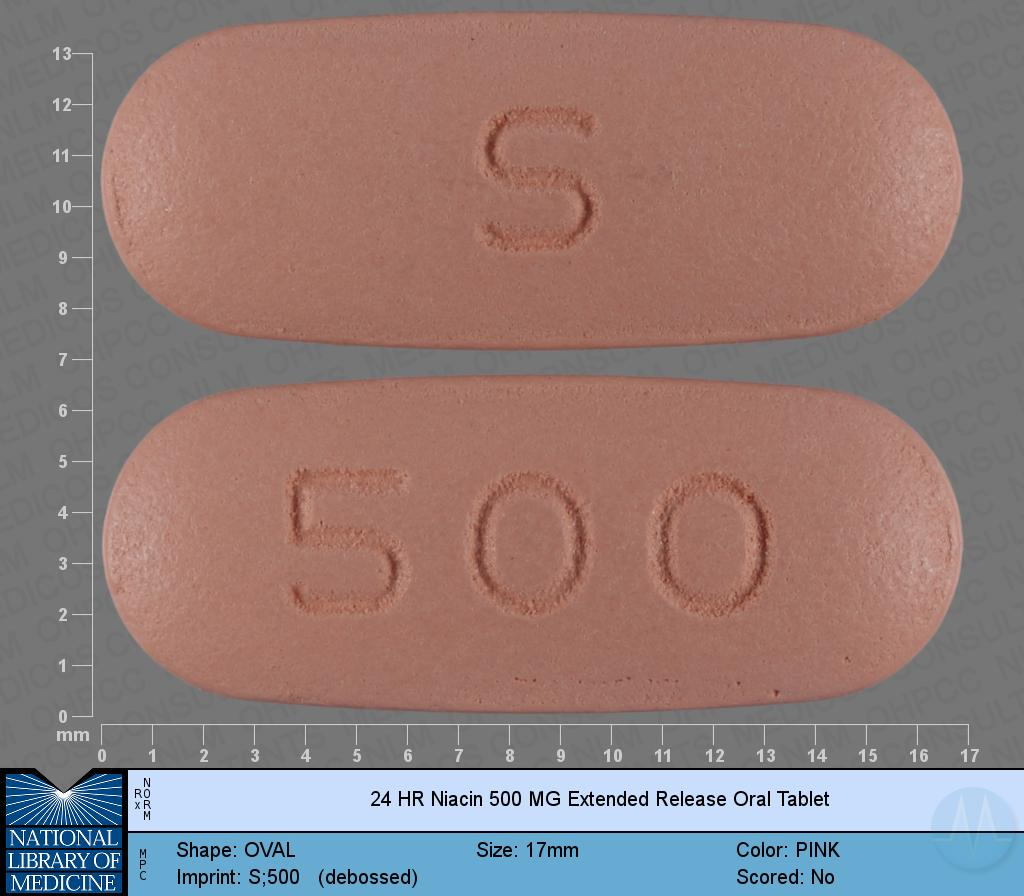Pill: (93, 5, 972, 357), (98, 368, 970, 720)
